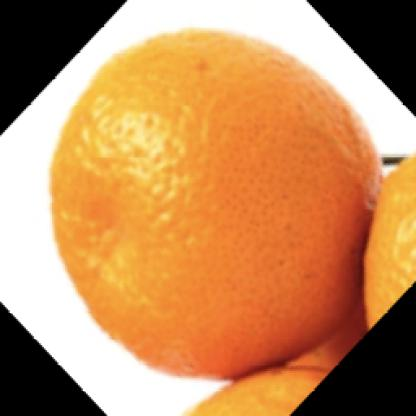fresh: (49, 28, 380, 383)
